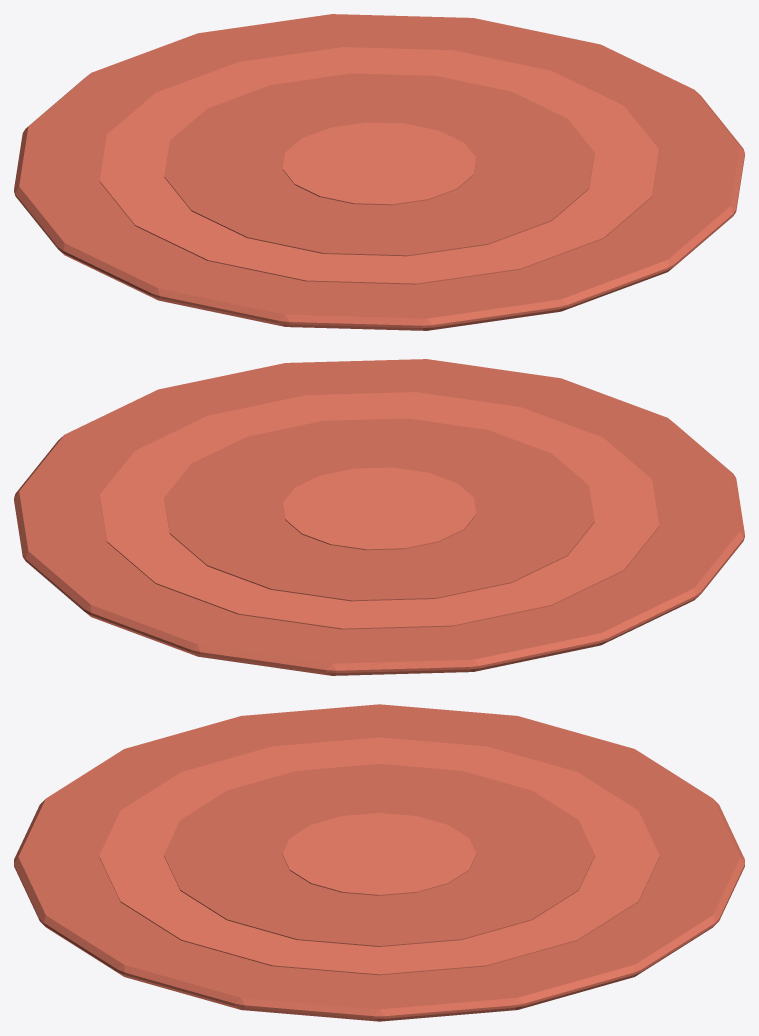
Rendered from round_rug.glb.
The picture shows the model from 3 angles, top to bottom: view 1: azimuth 30°, elevation 25°; view 2: azimuth 150°, elevation 25°; view 3: azimuth 270°, elevation 25°; orthographic projection.
Visible parts, largest first — view 1: round_rug; view 2: round_rug; view 3: round_rug.
Part boxes in pixels (box(x1,y1,x2,y2)): round_rug: box(14, 14, 744, 330); round_rug: box(14, 359, 744, 675); round_rug: box(14, 704, 744, 1021).
Size of the model in its own units: 1.36 by 0.031 by 1.36.
